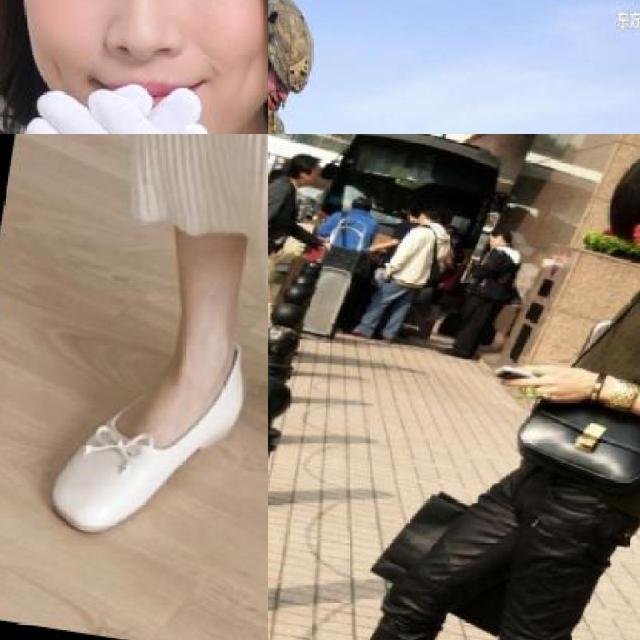Sandals: (38, 317, 250, 566)
face_nomask: (7, 0, 268, 134), (268, 70, 288, 125)
hand_glove: (0, 84, 221, 134), (26, 89, 268, 134)
hand_noglove: (501, 365, 594, 405)
head_helmet: (268, 0, 320, 90)
head_nohelmet: (284, 145, 324, 185), (612, 134, 640, 186)
person: (324, 134, 640, 640), (391, 204, 456, 360), (268, 139, 299, 342), (329, 186, 374, 264)
